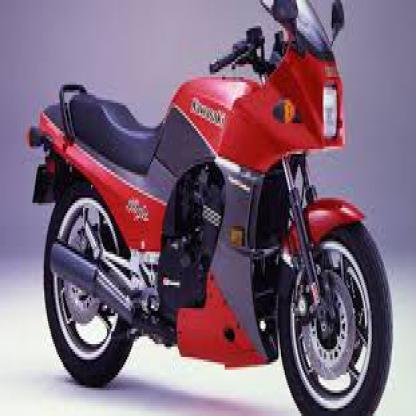Motorcycle: (23, 0, 397, 414)
